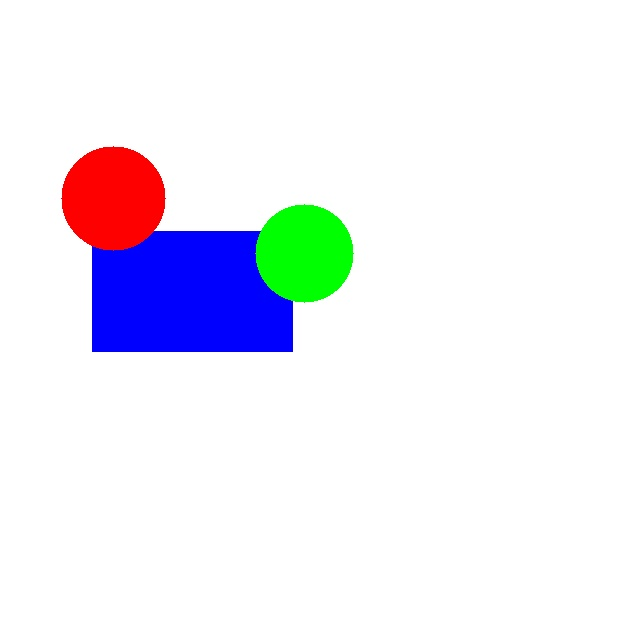cartao: (92, 231, 292, 351)
rosca_externa: (255, 204, 353, 302)
rosca_interna: (61, 146, 165, 250)
